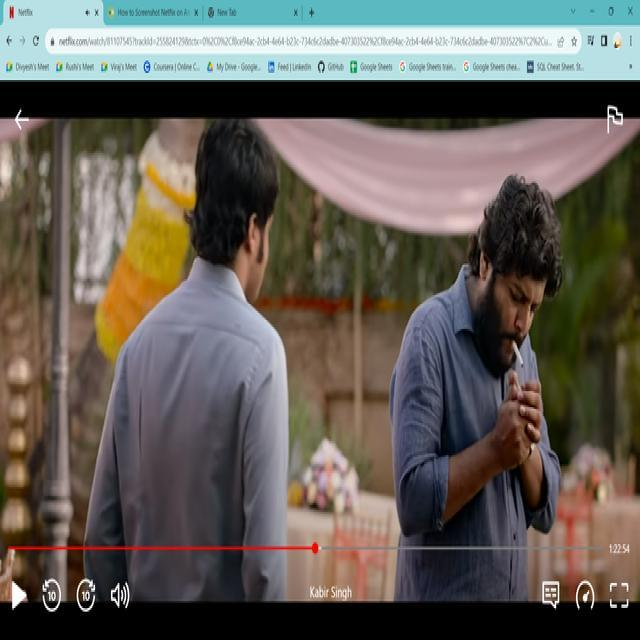smoking: (502, 328, 528, 374)
